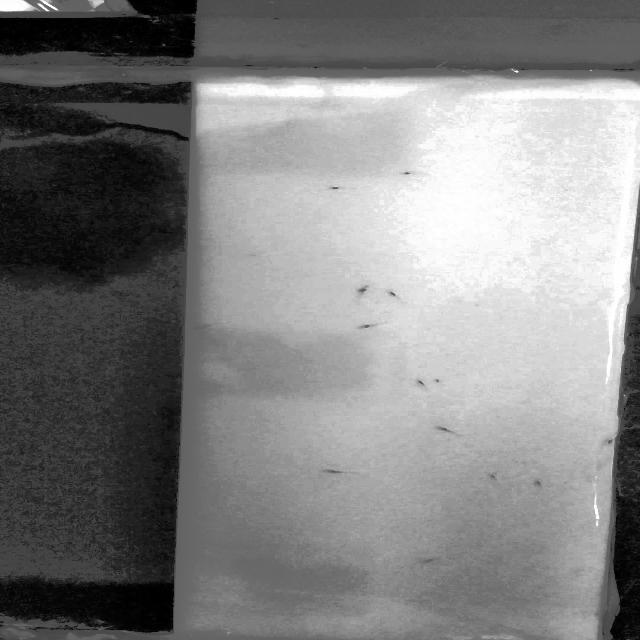shrimp: (322, 464, 364, 478), (434, 427, 466, 438), (393, 168, 423, 179), (355, 278, 372, 297), (186, 324, 226, 332), (386, 287, 408, 301), (484, 471, 512, 481), (598, 434, 618, 448), (426, 374, 447, 387), (358, 322, 388, 331), (418, 555, 442, 566), (531, 478, 552, 490), (409, 378, 436, 386), (328, 186, 346, 192)
